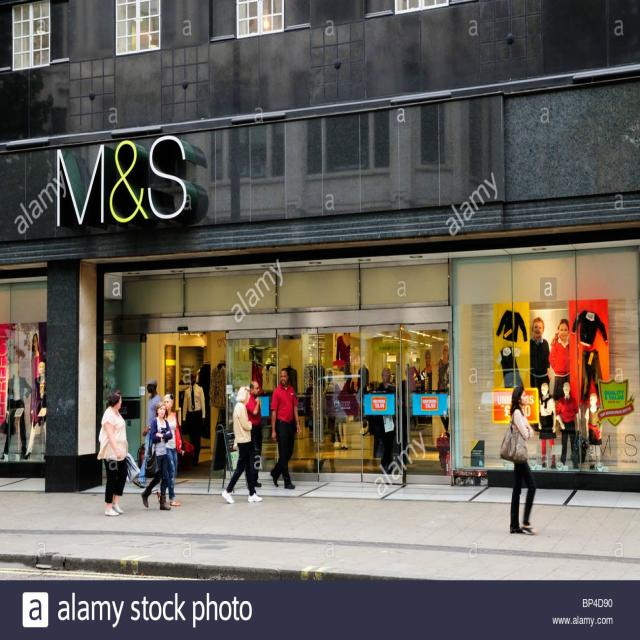body: (302, 359, 371, 472), (0, 323, 47, 463), (532, 381, 606, 468), (95, 388, 142, 519), (500, 385, 538, 536), (220, 384, 263, 506), (394, 351, 434, 462), (269, 366, 303, 490), (139, 399, 173, 512), (132, 378, 162, 488), (154, 392, 182, 507), (373, 366, 400, 475), (180, 368, 207, 467), (547, 317, 571, 406), (245, 380, 262, 489), (431, 341, 450, 438), (530, 316, 552, 399), (335, 332, 361, 360), (251, 348, 259, 362)
